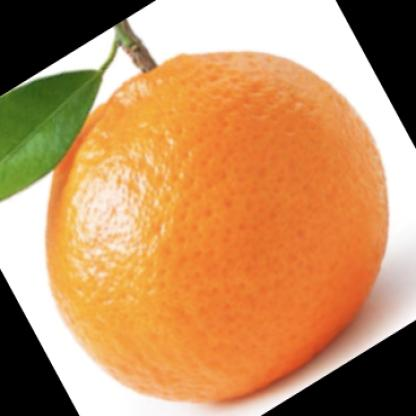fresh: (49, 49, 390, 403)
